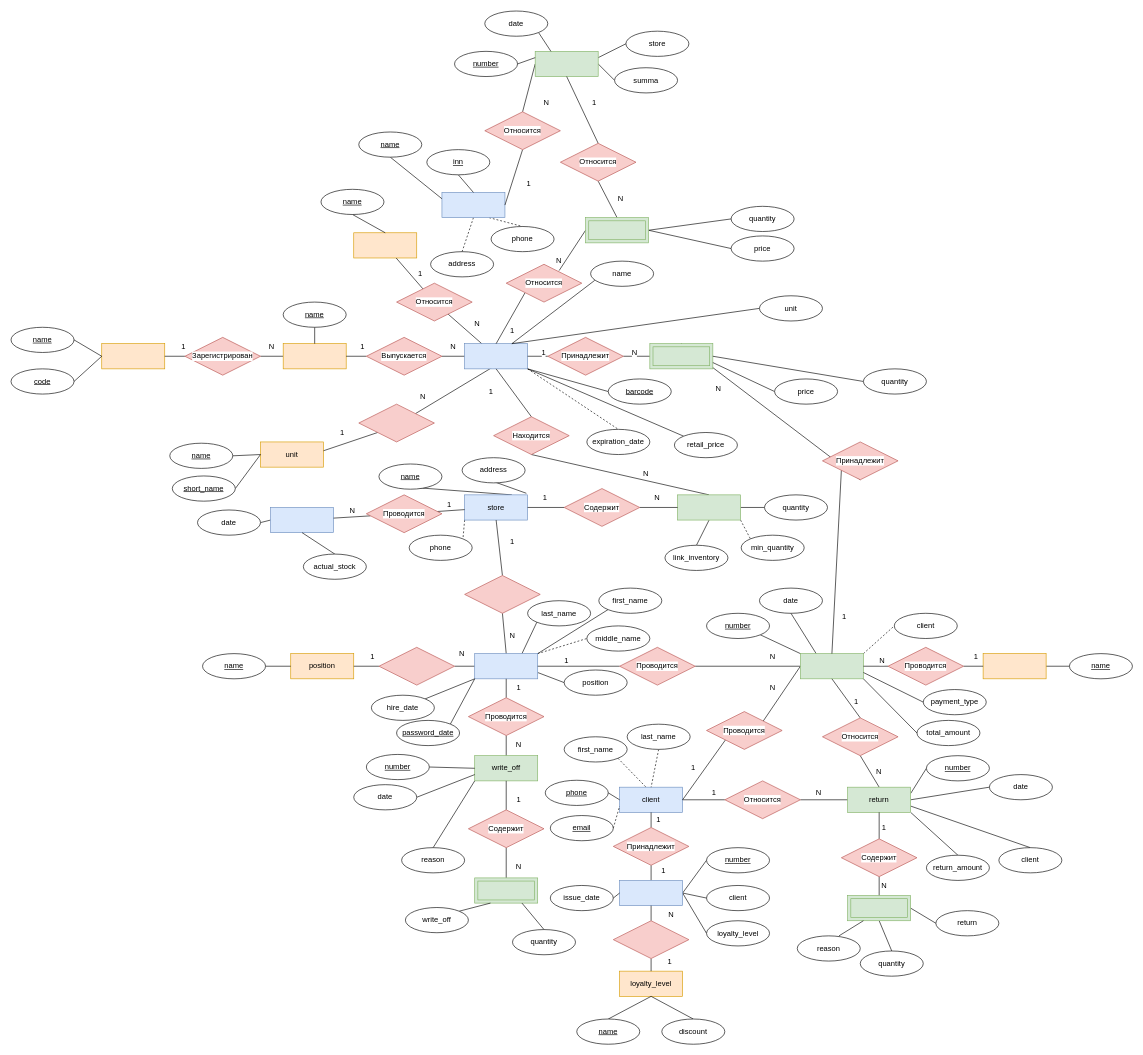
The diagram is 1143 pixels wide and 1055 high, and some of its shapes have lost their labels. The shapes that lost their labels are listed below. From the top down, each one's box as (x1, y1, x2, y2) in pixels, then its label:
(535, 51, 598, 77): supply
(441, 192, 505, 218): supplier
(353, 232, 417, 258): category
(585, 217, 649, 243): supply_item
(101, 343, 165, 369): country
(283, 343, 346, 369): manufacturer
(464, 343, 528, 369): product
(649, 343, 713, 369): sale_item
(358, 404, 434, 442): Измеряется
(270, 507, 334, 533): inventory
(677, 494, 741, 520): stock
(464, 575, 540, 613): Работает
(378, 647, 455, 685): Занимает
(474, 653, 538, 679): employee
(800, 653, 863, 679): sale
(982, 653, 1046, 679): paymant_type
(474, 877, 538, 903): write_off_item
(619, 880, 683, 906): loyalty_card
(847, 895, 911, 921): return_item
(613, 920, 689, 959): Имеет
